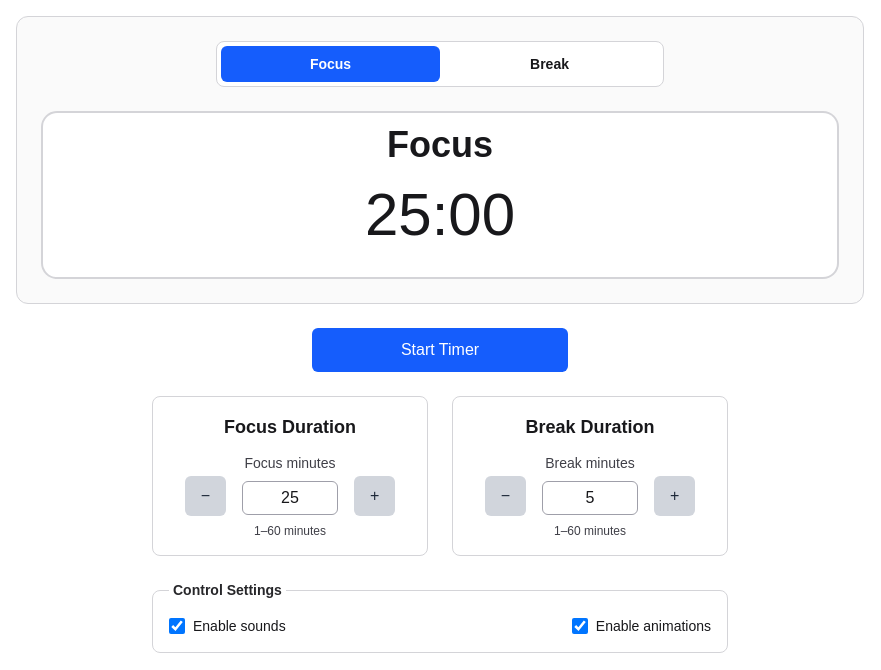
Test: PomodoroTimer › allows mode switching before start
Click the button "Break" at (550, 64), box [440,46,659,82]
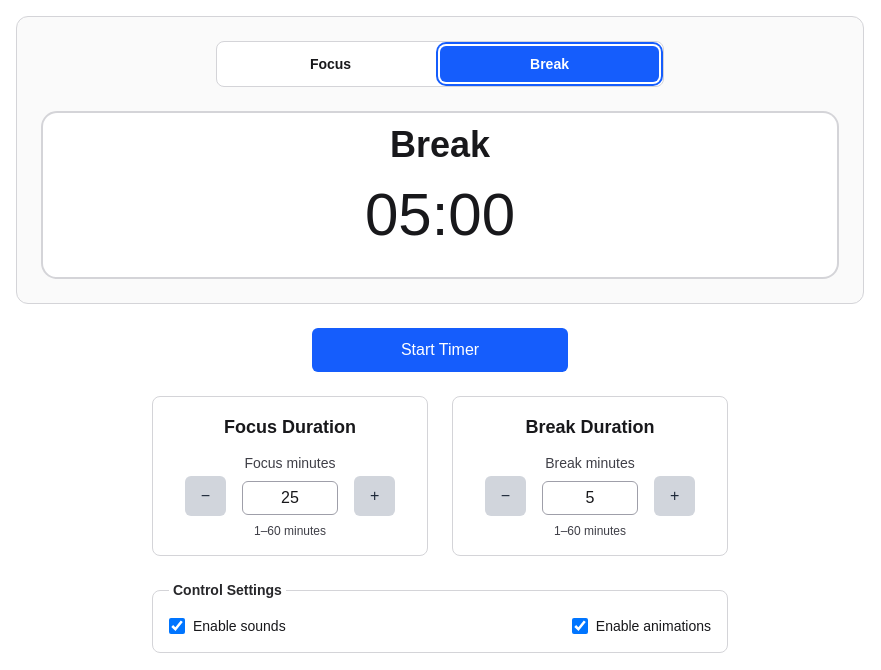
Check: the text "05:00" is shown, box [365,181,515,248]
Click the button "Focus" at (330, 64), box [221,46,440,82]
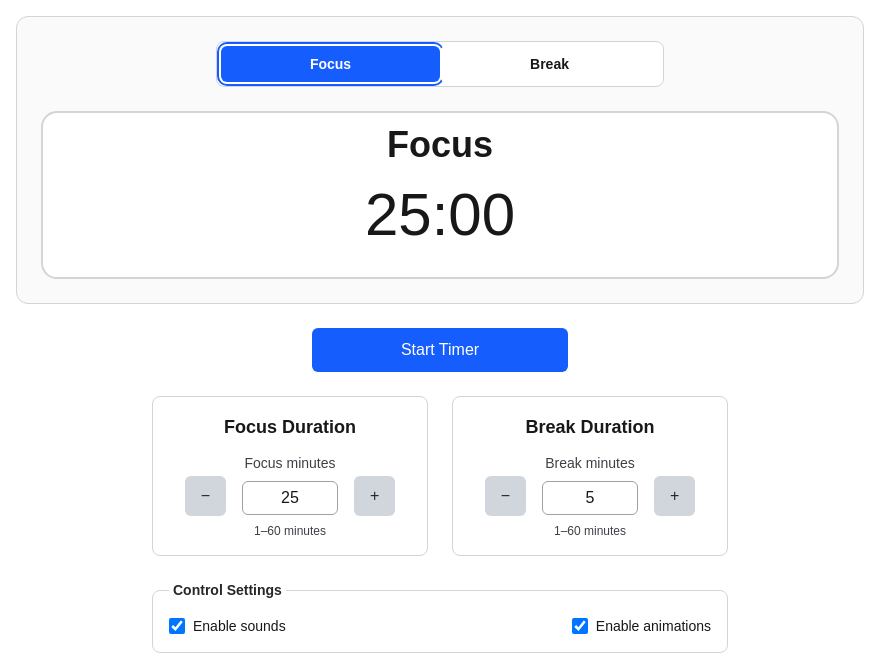
Check: the text "25:00" is shown, box [365,181,515,248]
